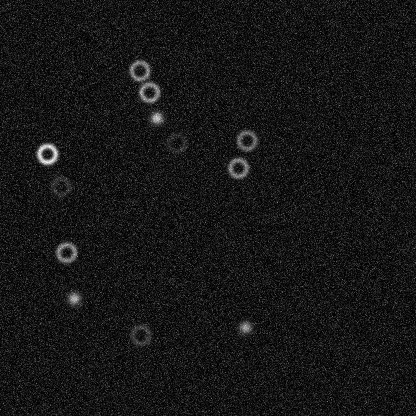Ring: (35, 141, 59, 165), (127, 58, 151, 82), (164, 130, 188, 154), (137, 80, 161, 104), (226, 155, 250, 179), (234, 128, 258, 152), (54, 240, 78, 264), (128, 323, 152, 347), (48, 174, 72, 198)
Spot: (148, 109, 164, 125), (237, 319, 253, 335), (65, 290, 81, 306)
